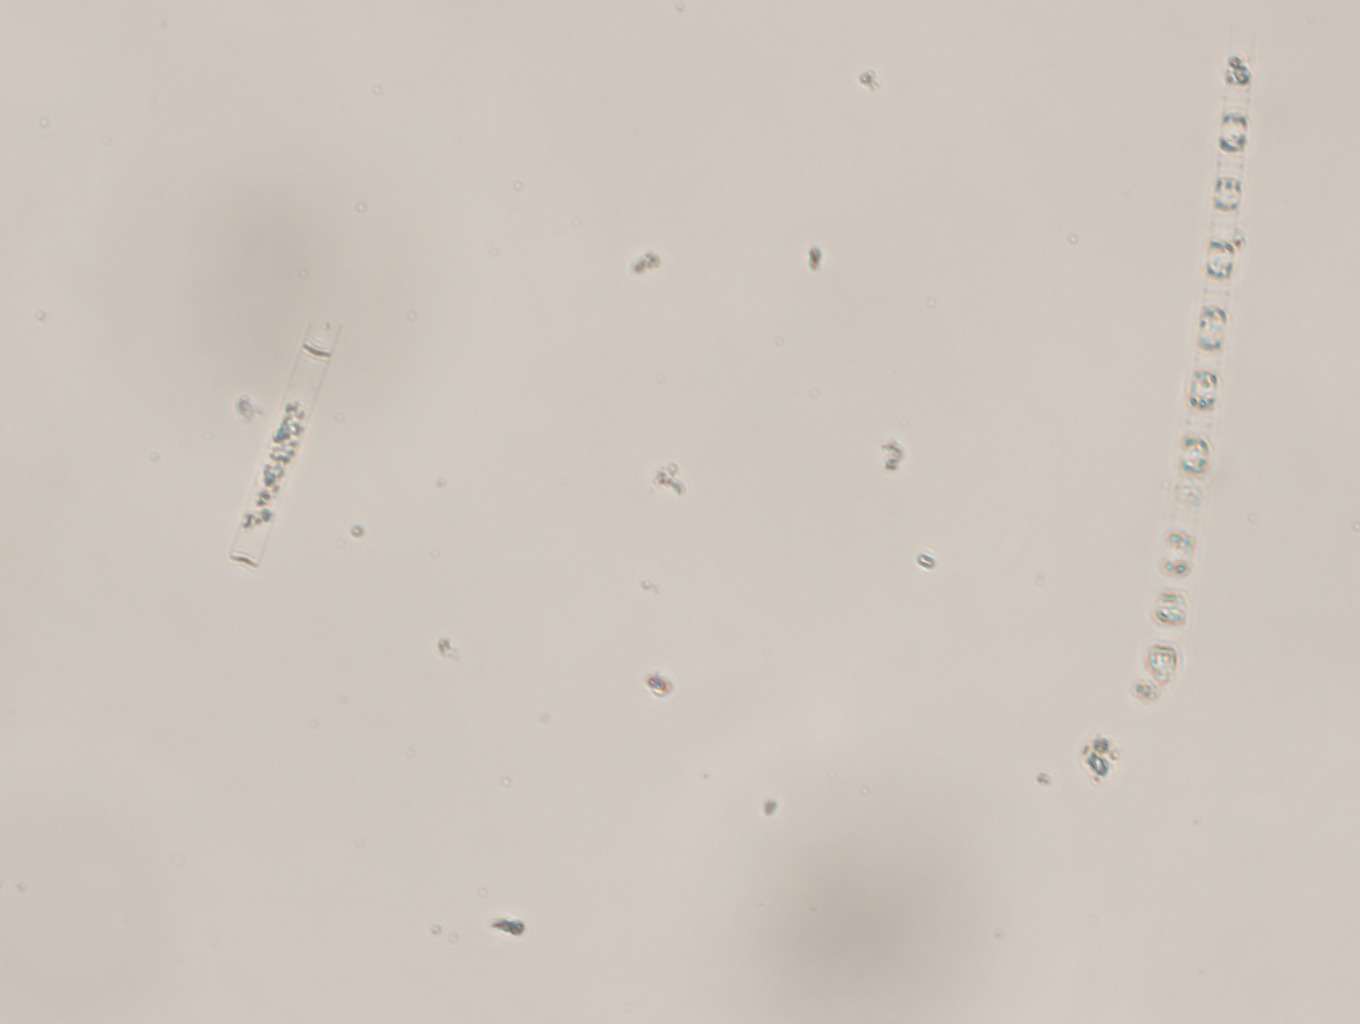rhizosolenia: (200, 307, 349, 579)
skeletonema: (1119, 33, 1273, 733)
